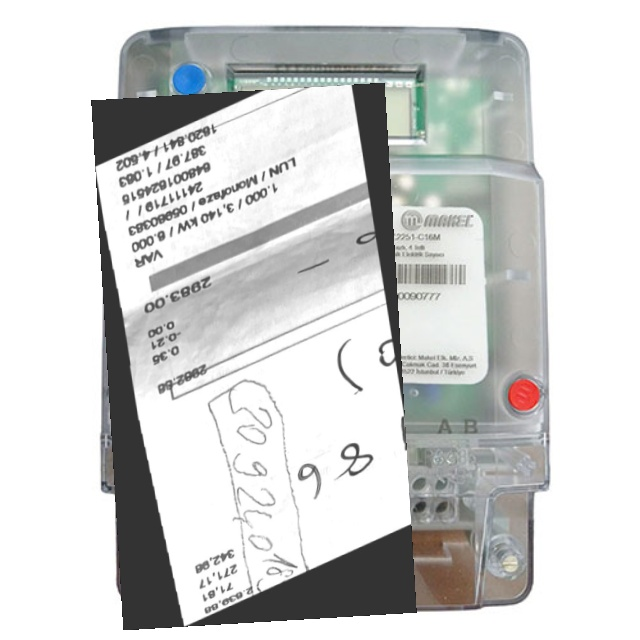electricity-bill: (91, 82, 417, 630)
